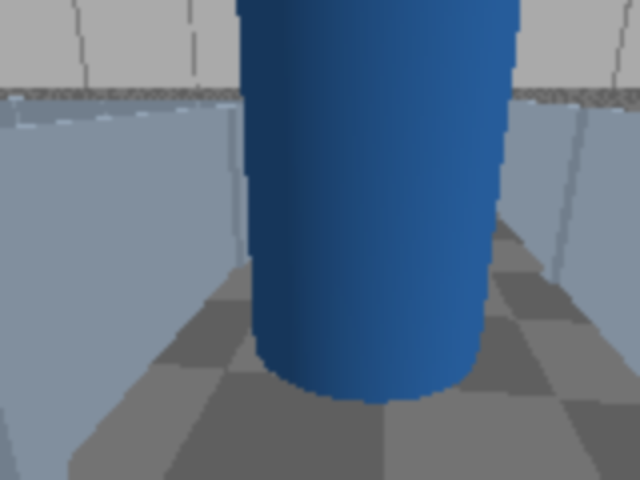person: (168, 0, 638, 402)
